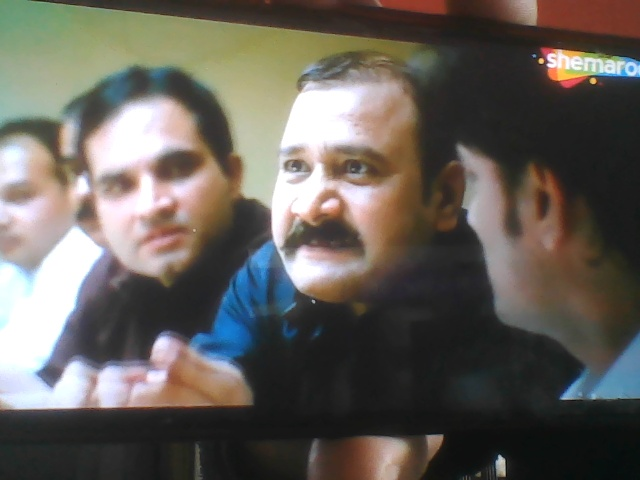fake: (255, 19, 465, 316), (76, 60, 239, 291)
